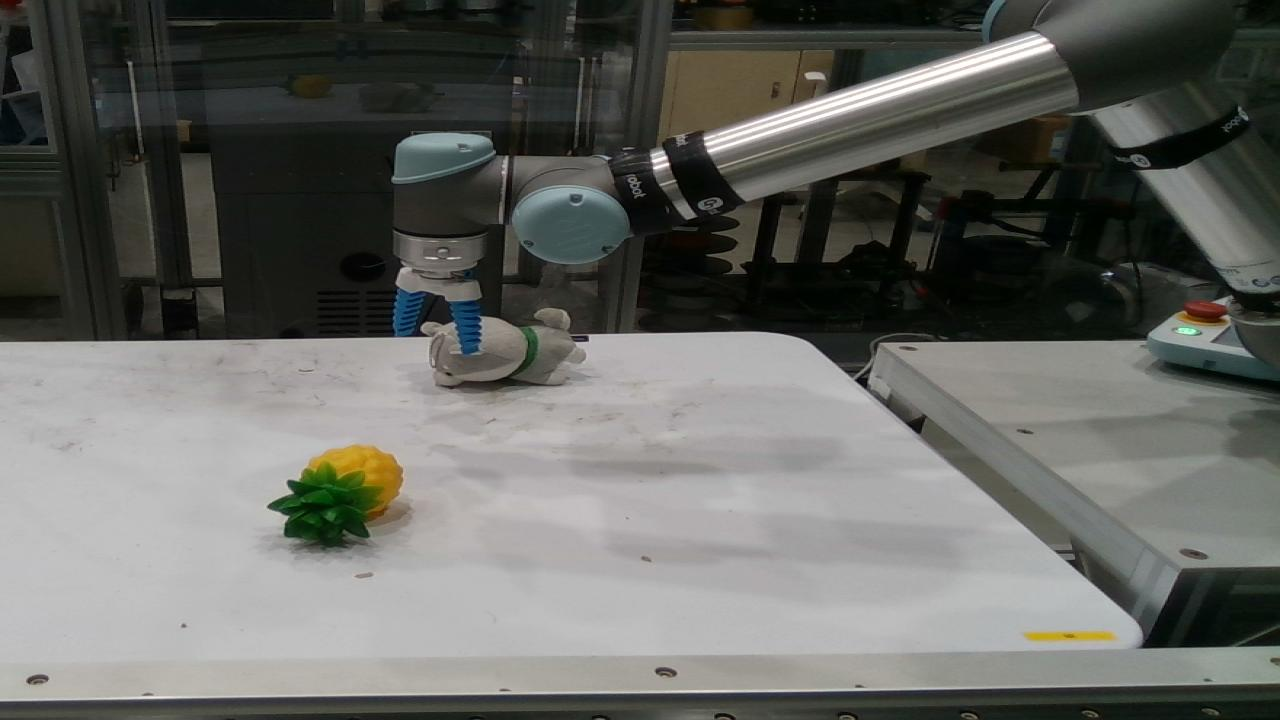UR5: (393, 0, 1279, 368)
gripper_left: (393, 288, 425, 336)
gripper_right: (448, 300, 480, 354)
target: (268, 445, 401, 546), (422, 309, 585, 386)
